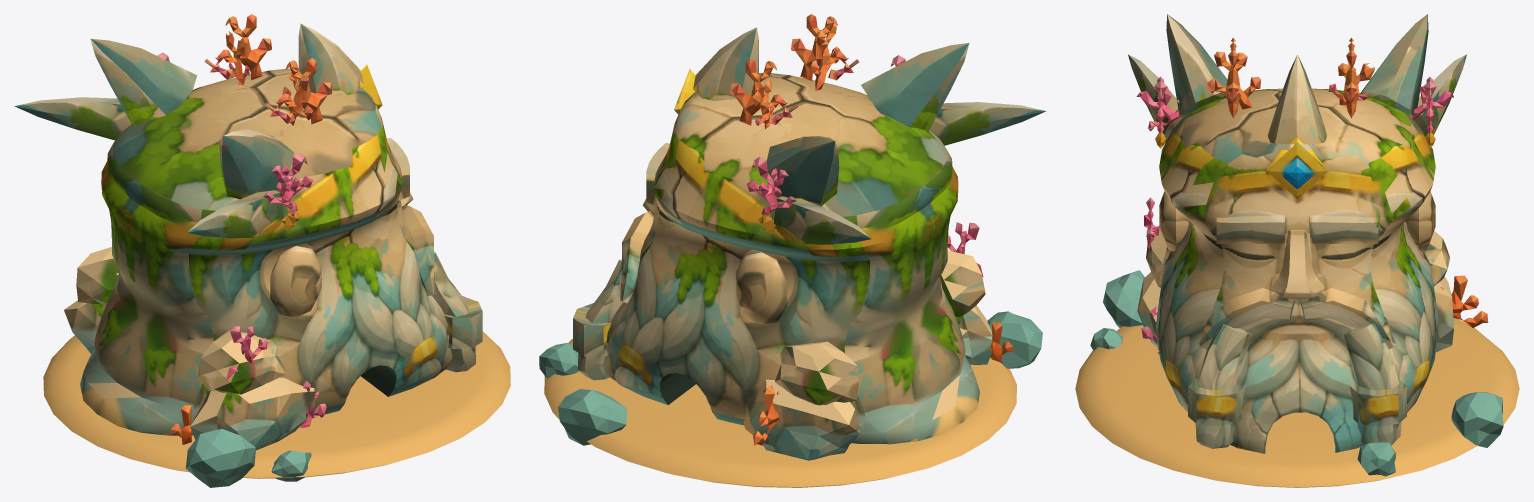
Rendered from MB_LM_OceanKing_v1.fbx.
3 renders of one model, left to right at view 1: azimuth 30°, elevation 25°; view 2: azimuth 150°, elevation 25°; view 3: azimuth 270°, elevation 25°, orthographic. The views are drawn at different scales.
Parts seen in each view (by area): view 1: Head, Sand, Coral, Rocks; view 2: Head, Sand, Coral, Rocks; view 3: Head, Sand, Coral, Rocks.
Part boxes in pixels (x1=…): Head: x1=14, y1=23, x2=482, y2=450; Sand: x1=43, y1=331, x2=510, y2=478; Coral: x1=157, y1=14, x2=332, y2=444; Rocks: x1=185, y1=428, x2=311, y2=487; Head: x1=573, y1=27, x2=1046, y2=460; Sand: x1=544, y1=339, x2=1016, y2=487; Coral: x1=730, y1=14, x2=1012, y2=445; Rocks: x1=539, y1=311, x2=1042, y2=445; Head: x1=1128, y1=14, x2=1466, y2=453; Sand: x1=1075, y1=318, x2=1519, y2=487; Coral: x1=1136, y1=37, x2=1488, y2=354; Rocks: x1=1090, y1=270, x2=1503, y2=476.
Size of the model in its own units: 17300 by 14870 by 16500.
Materials: 1 (1 with a texture image).
